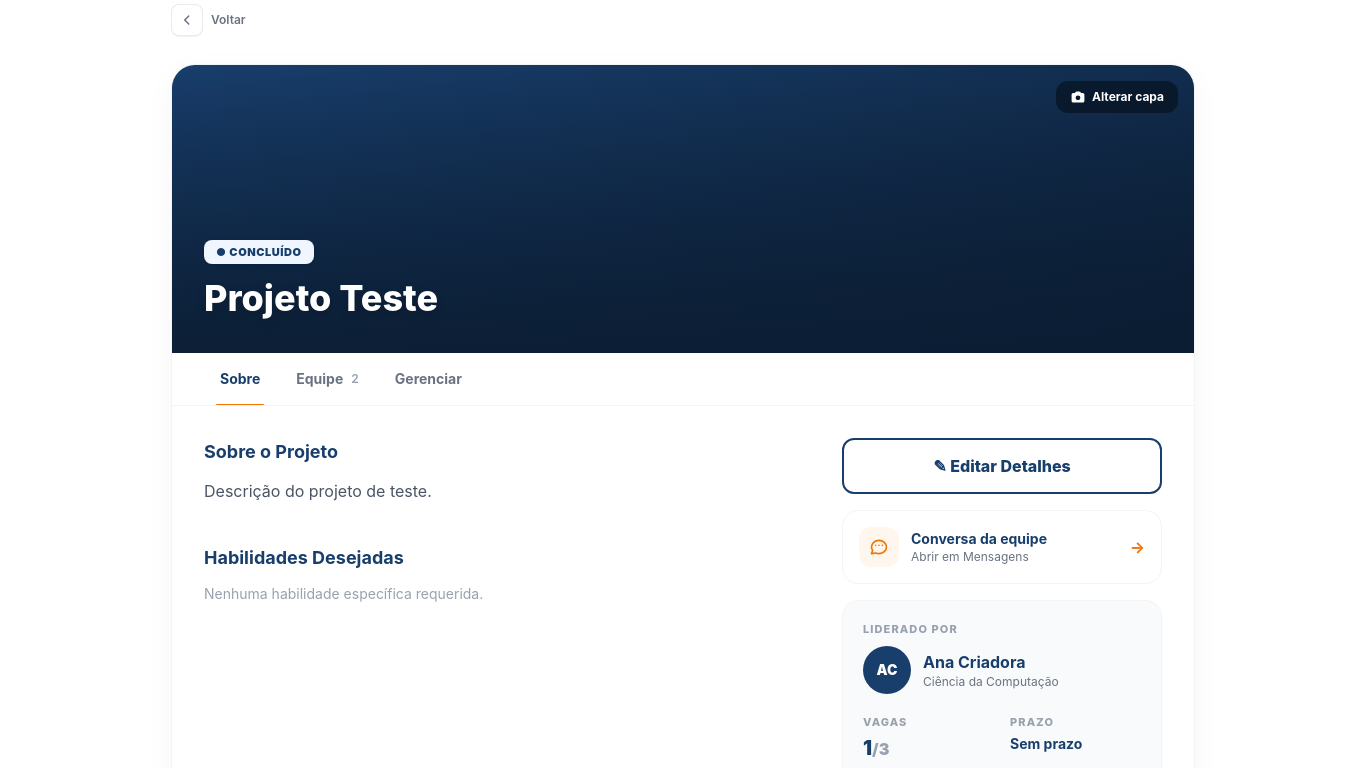
DetalhesProjeto › mostra candidatos recomendados e permite avaliar um membro em projeto concluído
The width and height of the screenshot is (1366, 768).
Click the tab "Gerenciar". click: (428, 379)
box: top-left (379, 353), bottom-right (478, 405)
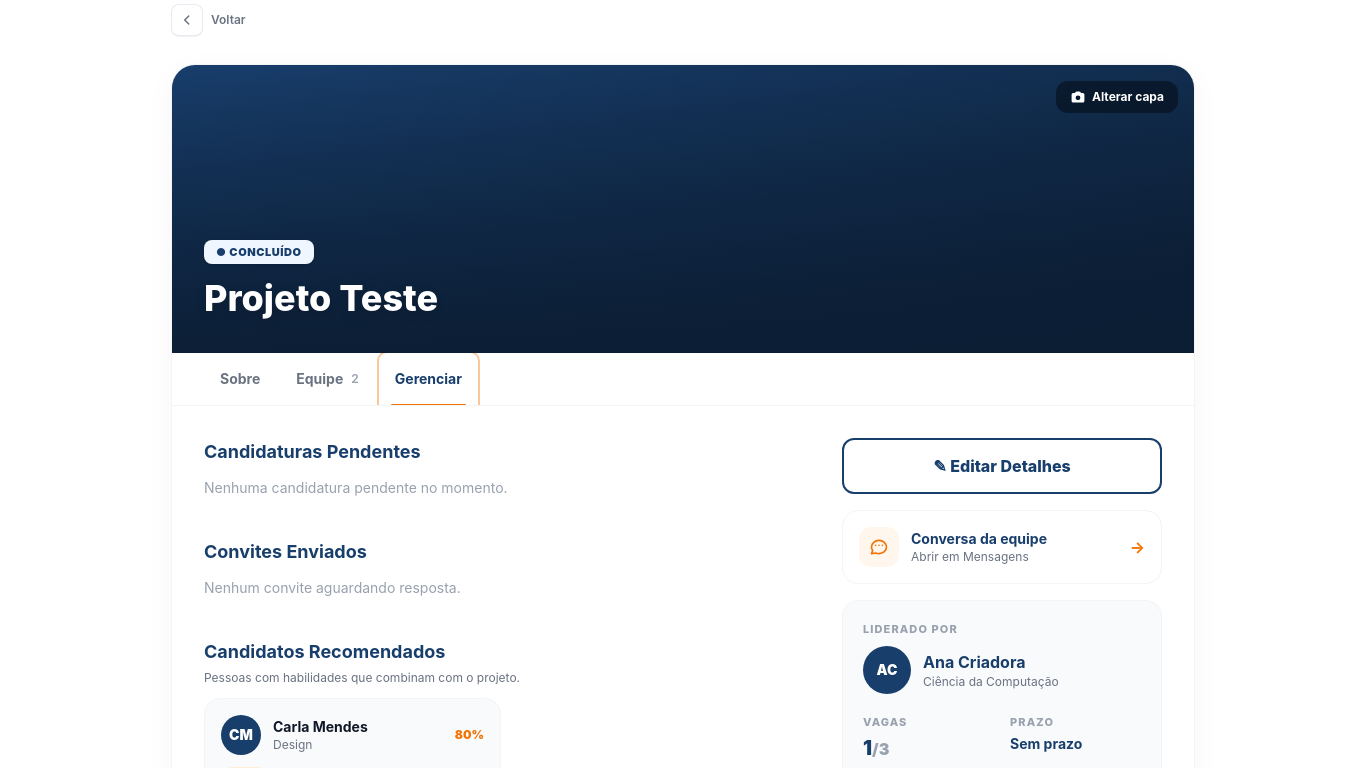
Now the heading "Candidatos Recomendados" is shown, box top-left (204, 638), bottom-right (445, 666)
Now the link "Carla Mendes" is shown, box top-left (273, 718), bottom-right (368, 735)
Now the text "80%" is shown, box top-left (455, 727), bottom-right (484, 743)
Click the tab "Equipe 2". click: (328, 379)
box: top-left (280, 353), bottom-right (375, 405)
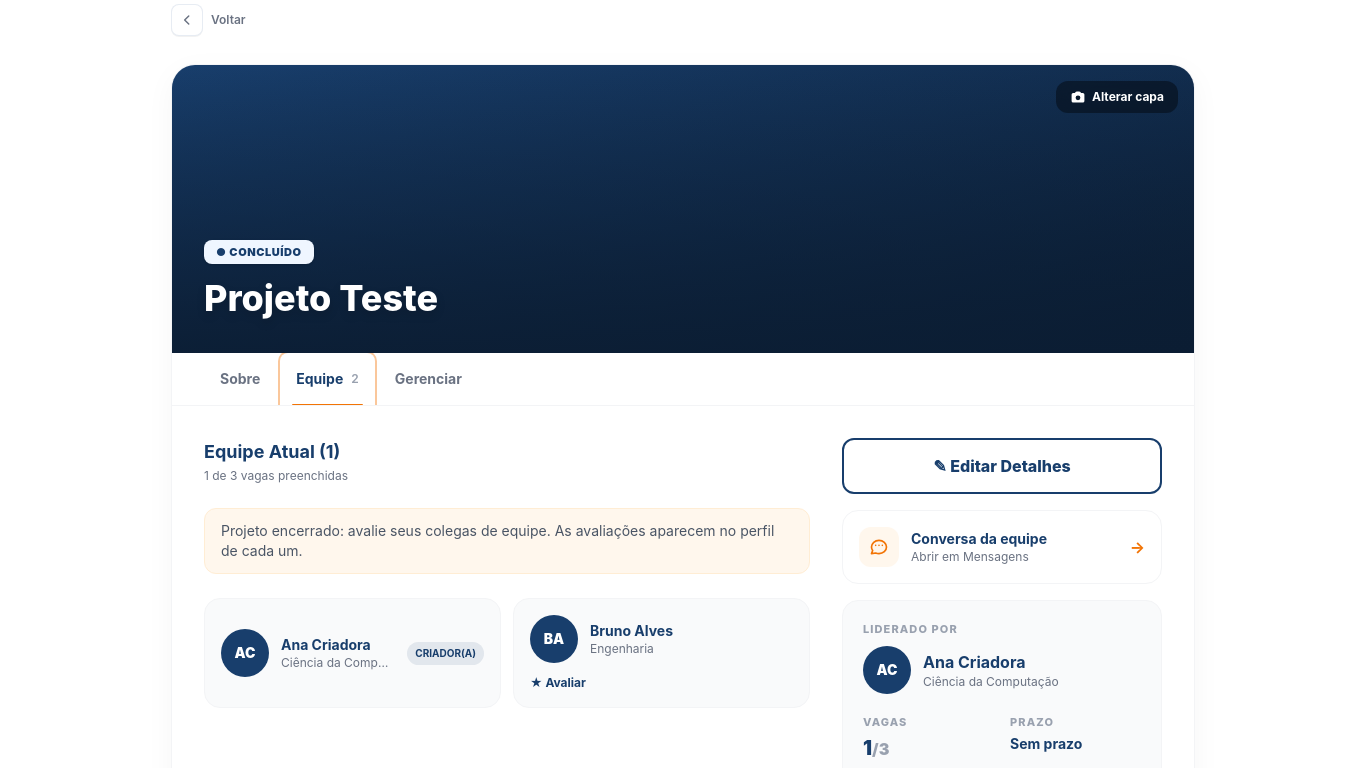
Click the button "★ Avaliar". click: (558, 683)
box: top-left (530, 675), bottom-right (586, 691)
(page scrolled)
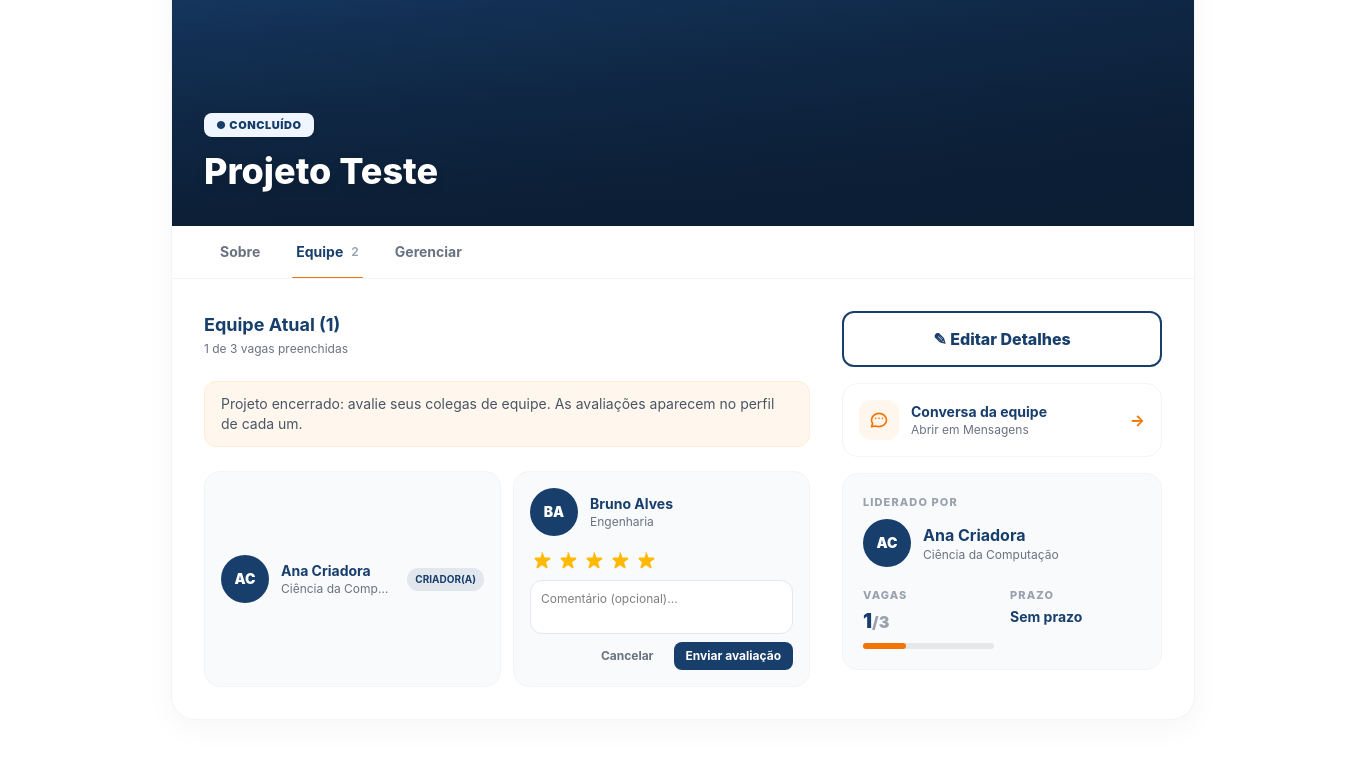
Click the button "Enviar avaliação". click: (733, 656)
box: top-left (674, 642), bottom-right (793, 670)
(page scrolled)
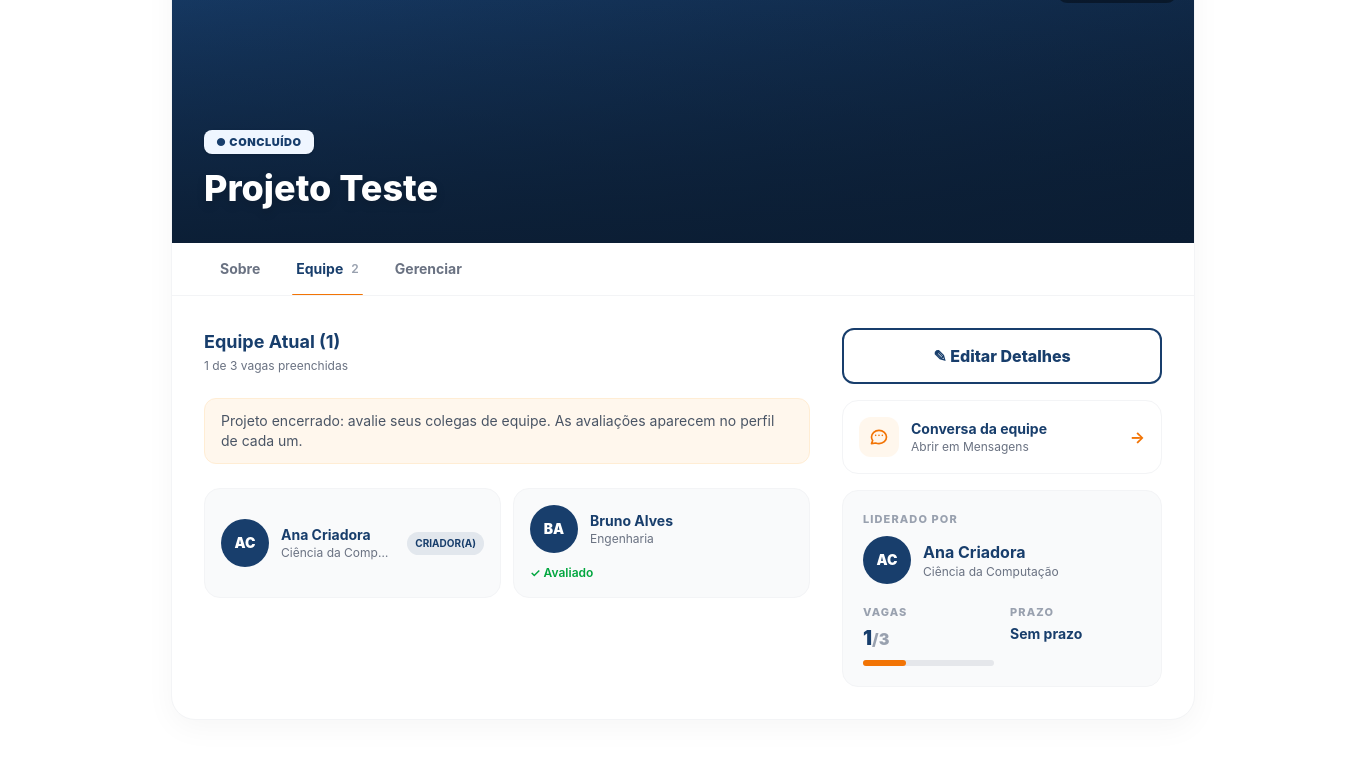
Now the text "✓ Avaliado" is shown, box top-left (530, 565), bottom-right (593, 580)
